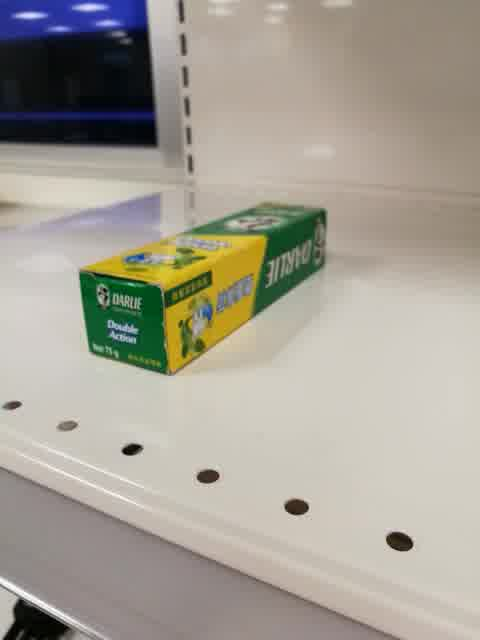toothpaste: (78, 202, 329, 377)
